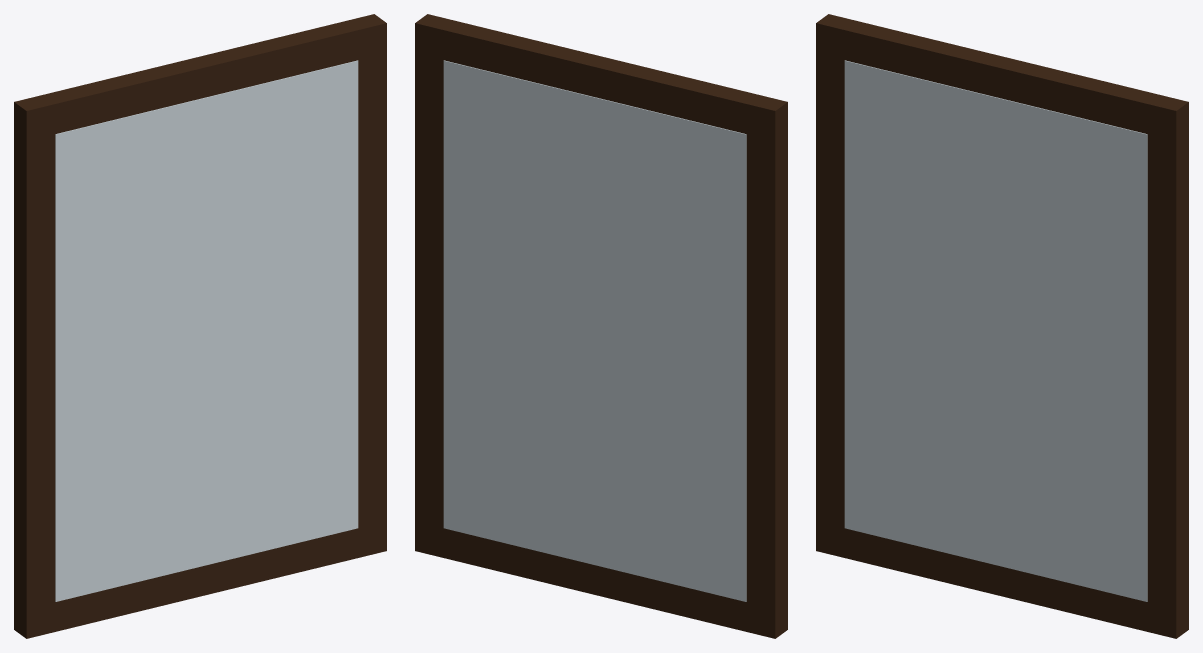
File: mirror.glb
The picture shows the model from 3 angles, left to right: view 1: azimuth 30°, elevation 25°; view 2: azimuth 150°, elevation 25°; view 3: azimuth 330°, elevation 25°; orthographic projection.
Parts seen in each view (by area): view 1: mirror; view 2: mirror; view 3: mirror.
Boxes of the visible parts, <box> form: mirror: <box>14,14,386,638</box>; mirror: <box>415,14,787,638</box>; mirror: <box>816,14,1188,638</box>.
Size of the model in its own units: 0.5 by 0.7 by 0.032.
